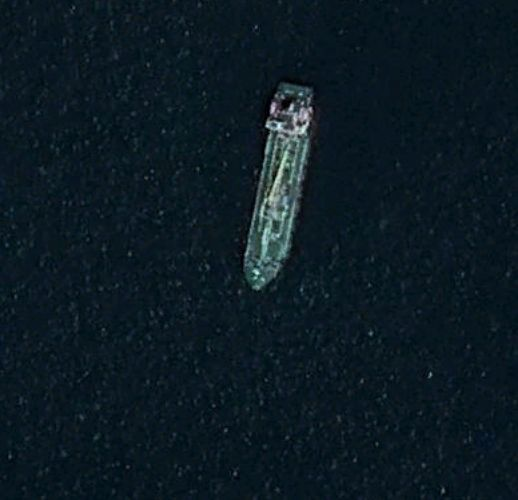boat: (240, 80, 317, 295)
